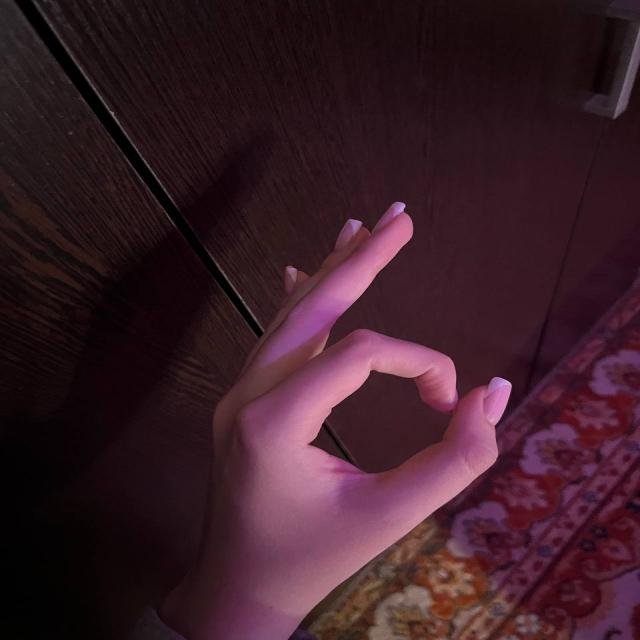o: (171, 186, 522, 546)
